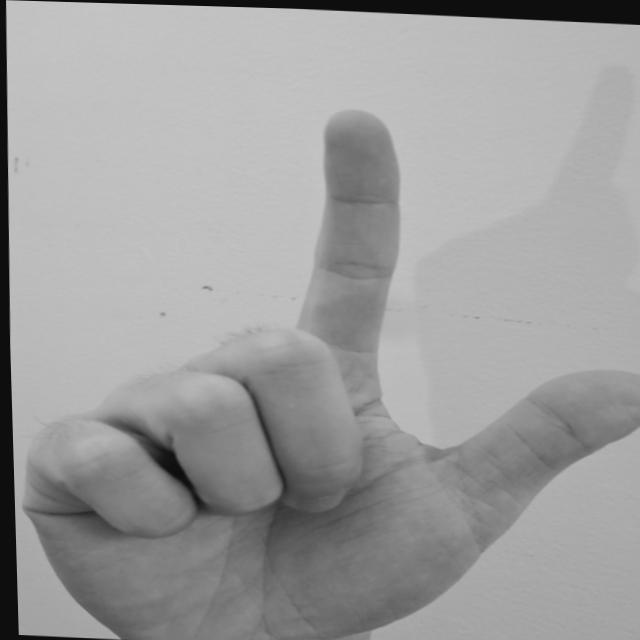L: (1, 79, 639, 639)
